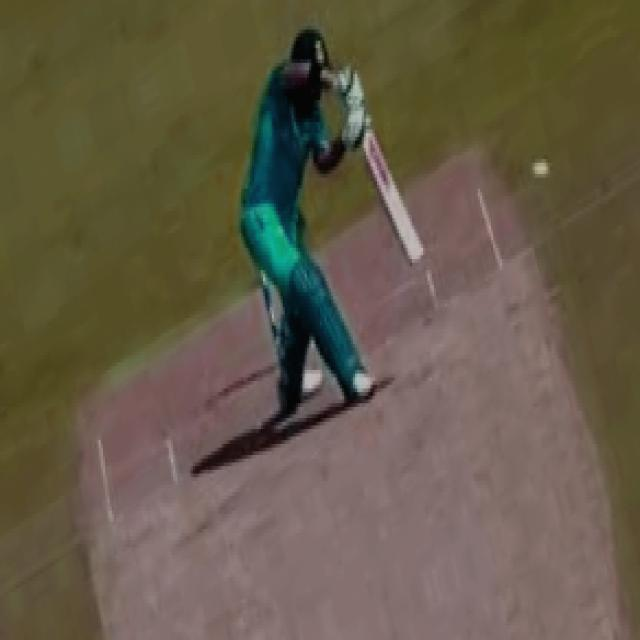bat: (341, 125, 447, 271)
toe: (406, 246, 430, 266)
